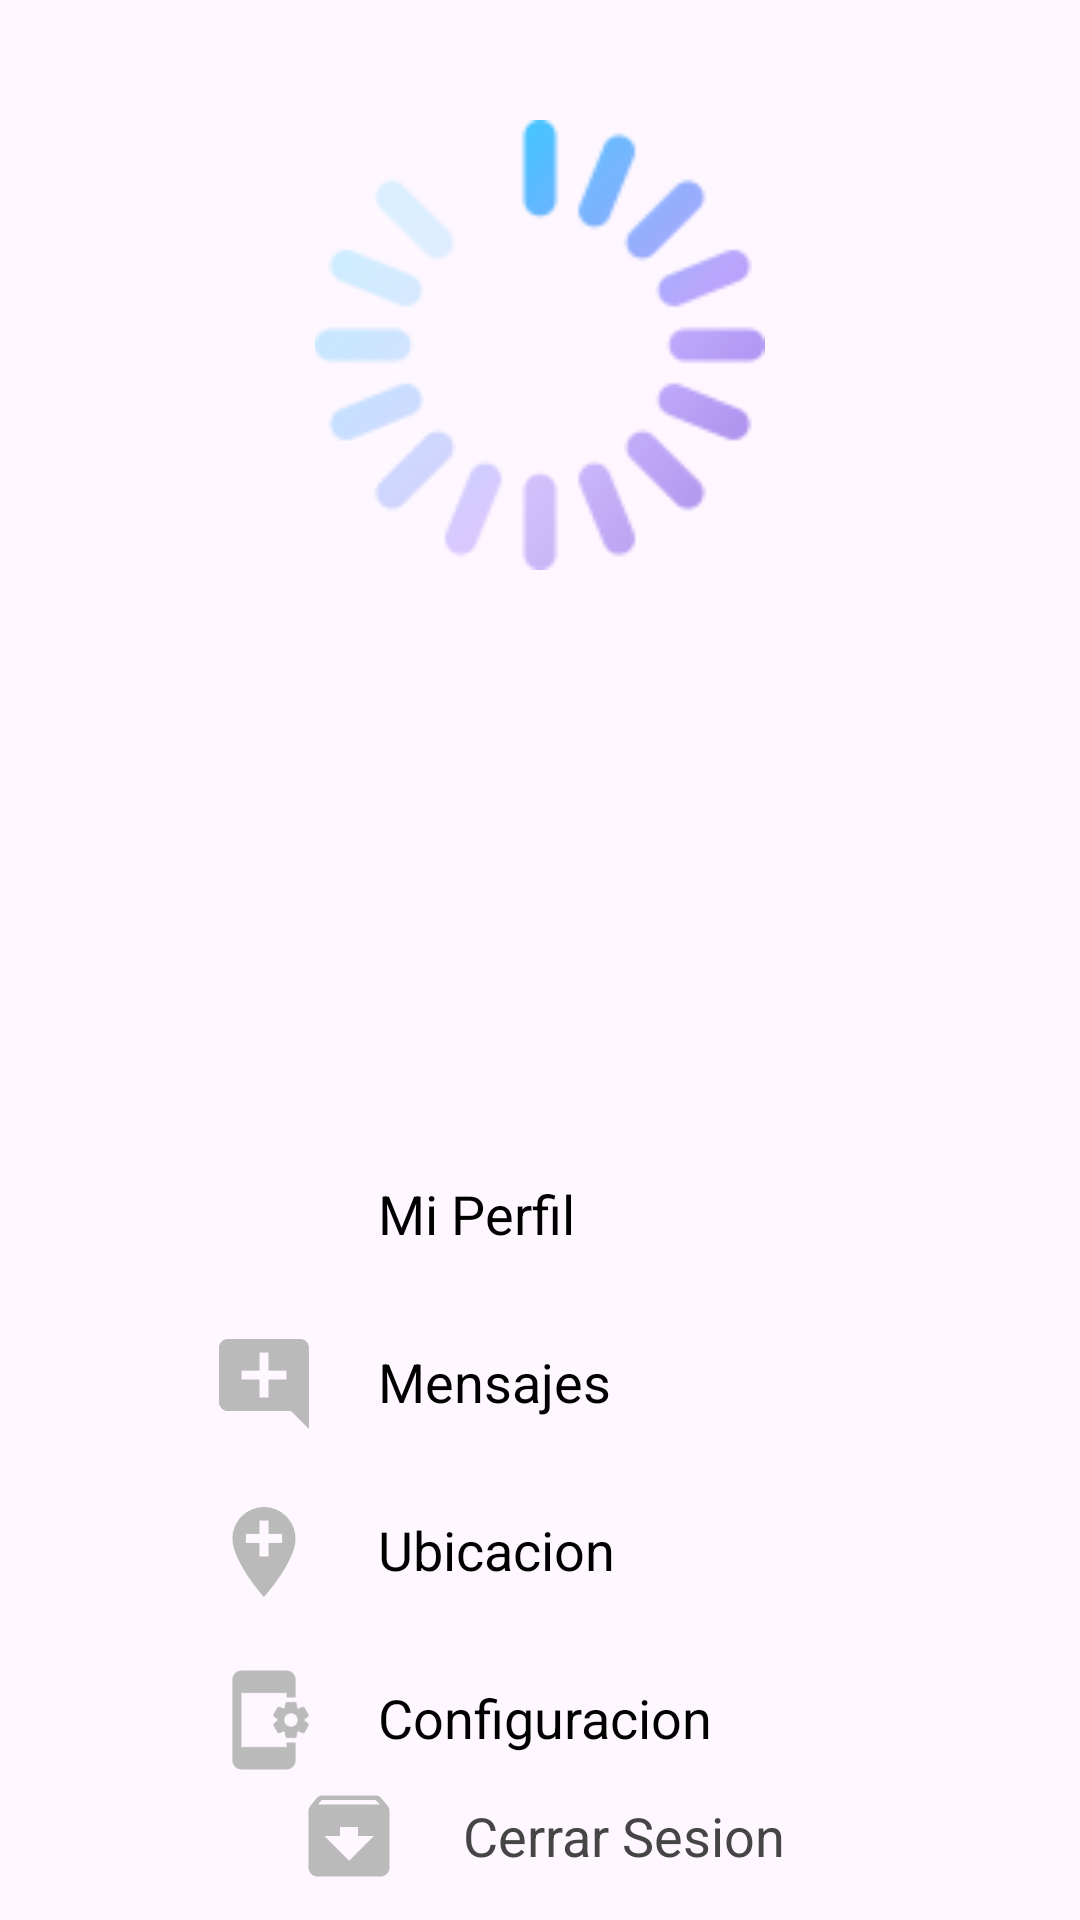

Named icons in this screenshot (1080 x 1920) and their bounding boxes, (x1, y1, x2, y2):
add comment: (219, 1339, 309, 1429)
add location: (232, 1507, 296, 1597)
archive: (308, 1795, 390, 1877)
settings: (232, 1670, 309, 1770)
